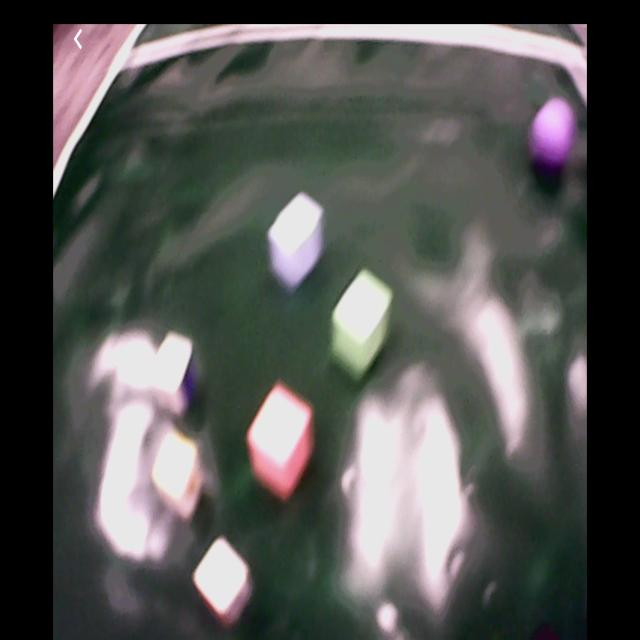ball: (530, 98, 574, 166)
